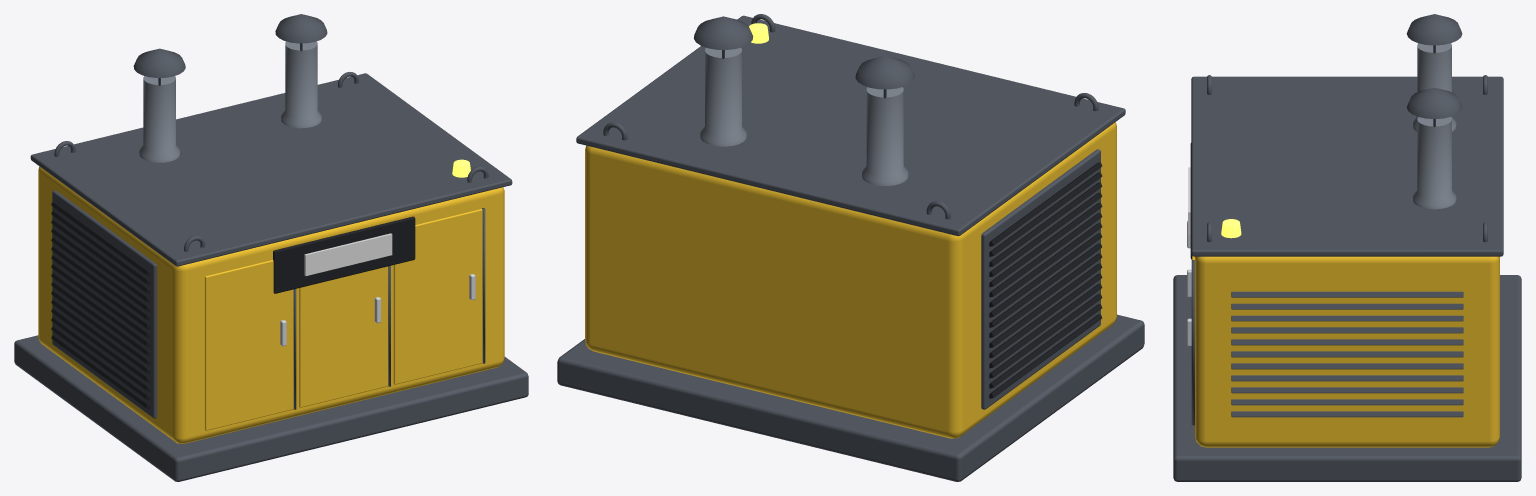
The model's file is GenDiesel100.fbx.
3 views of the same model, side by side, from view 1: azimuth 30°, elevation 25°; view 2: azimuth 150°, elevation 25°; view 3: azimuth 270°, elevation 25° (orthographic). The views are drawn at different scales.
Parts seen in each view (by area): view 1: Body__MetalDark, Body__Yellow, Body__Black, Body__Steel, Body__Yellow!1; view 2: Body__MetalDark, Body__Yellow, Body__Black, Body__Steel; view 3: Body__MetalDark, Body__Yellow, Body__Steel.
Part boxes in pixels (<box>): Body__MetalDark: <box>14,14,528,481</box>; Body__Yellow: <box>38,166,504,443</box>; Body__Black: <box>51,201,415,408</box>; Body__Steel: <box>139,41,321,162</box>; Body__Yellow!1: <box>304,233,392,275</box>; Body__MetalDark: <box>557,14,1144,481</box>; Body__Yellow: <box>585,122,1116,438</box>; Body__Black: <box>989,162,1102,398</box>; Body__Steel: <box>700,47,908,185</box>; Body__MetalDark: <box>1173,14,1521,481</box>; Body__Yellow: <box>1192,256,1499,447</box>; Body__Steel: <box>1413,43,1456,209</box>.
Bounding box in the file's own units: 6 × 5.68 × 4.8.
